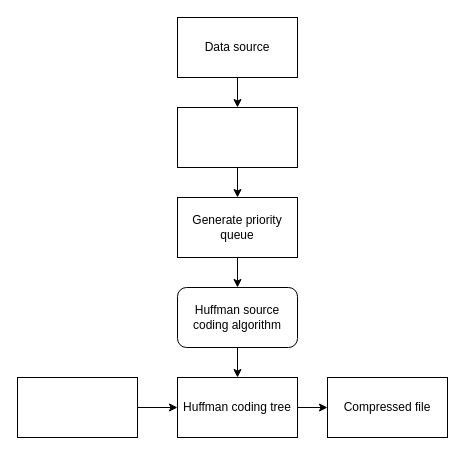
Image size: 465x455. Some labels were removed from this diagram. The shapes that lost their labels are listed below. From the top down, each one's box as (x1, y1, x2, y2) in pixels, then its label:
(176, 106, 298, 168): Frequency count of each character
(16, 376, 138, 438): Input file
